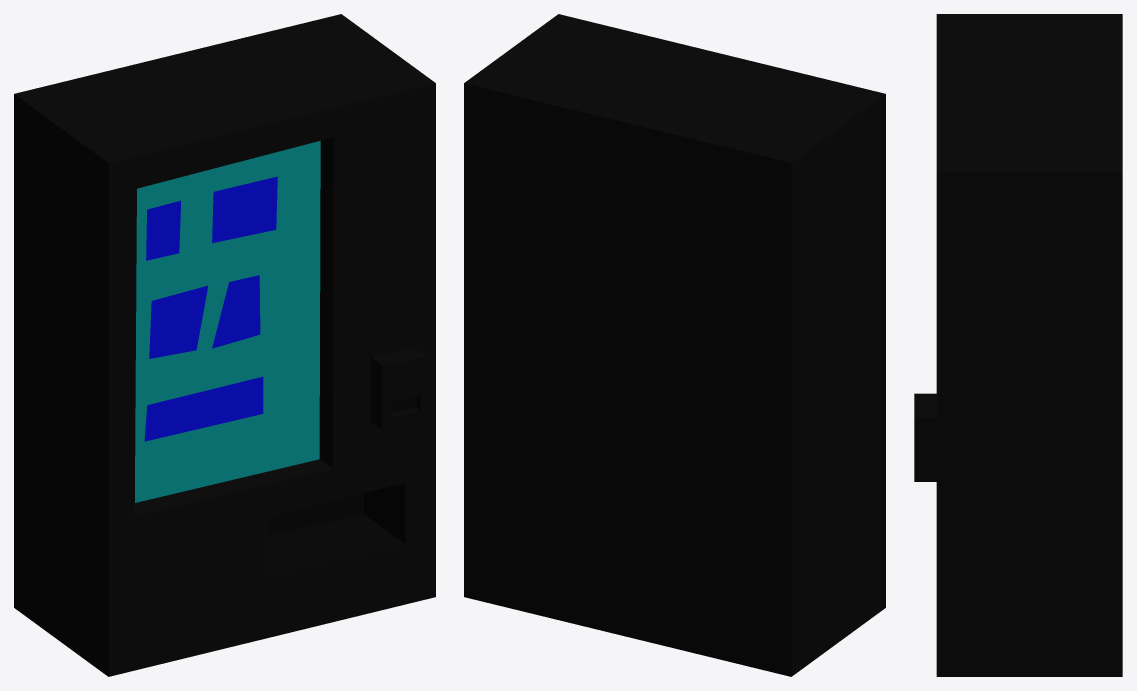
File: vendingMachine.fbx
3 views of the same model, side by side, from view 1: azimuth 30°, elevation 25°; view 2: azimuth 150°, elevation 25°; view 3: azimuth 270°, elevation 25° (orthographic).
Visible parts, largest first — view 1: Cube; view 2: Cube; view 3: Cube.
Part boxes in pixels (x1,y1,x2,y2): Cube: (14,14,435,676); Cube: (464,14,885,676); Cube: (914,14,1122,676).
Size of the model in its own units: 400 by 600 by 224.
